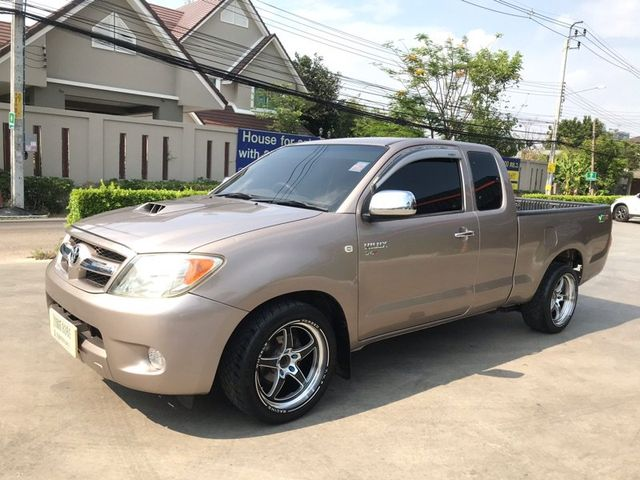pickup: (45, 134, 616, 424)
